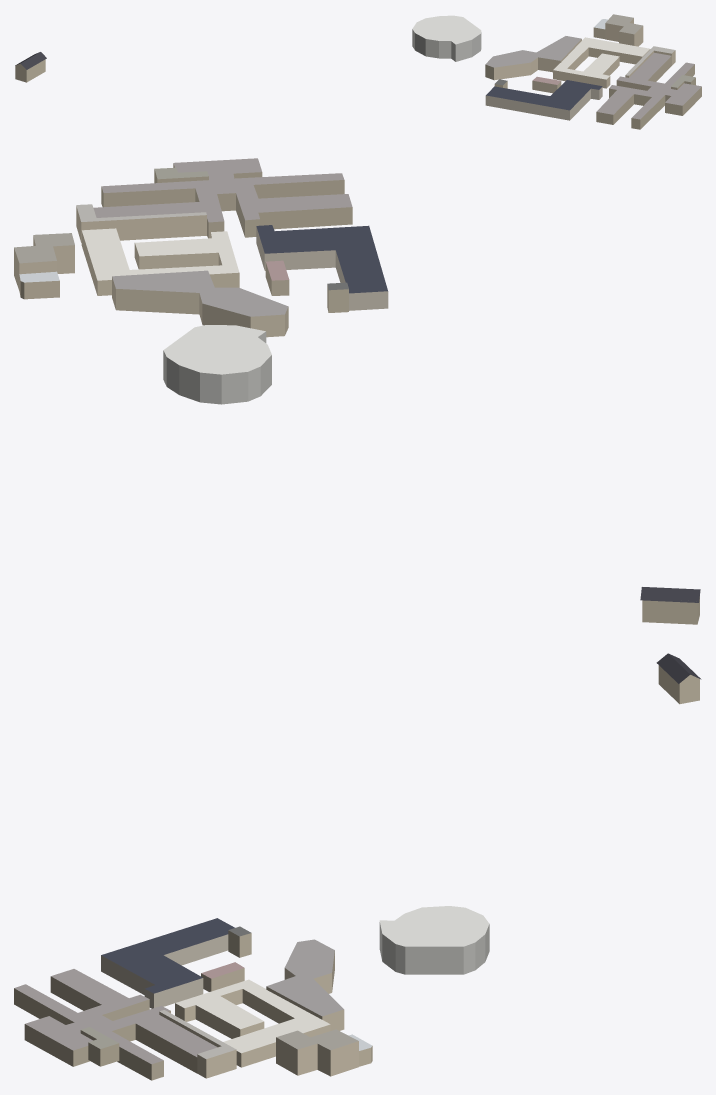
3 renders of one model, top to bottom at view 1: azimuth 30°, elevation 25°; view 2: azimuth 150°, elevation 25°; view 3: azimuth 270°, elevation 25°, orthographic. The views are drawn at different scales.
Visible parts, largest first — view 1: tuile; view 2: tuile; view 3: tuile.
Part boxes in pixels (left/top/right/bottom): tuile: left=15, top=14, right=701, bottom=129; tuile: left=14, top=158, right=700, bottom=624; tuile: left=14, top=653, right=701, bottom=1080.
Size of the model in its own units: 202 by 7.48 by 146.
